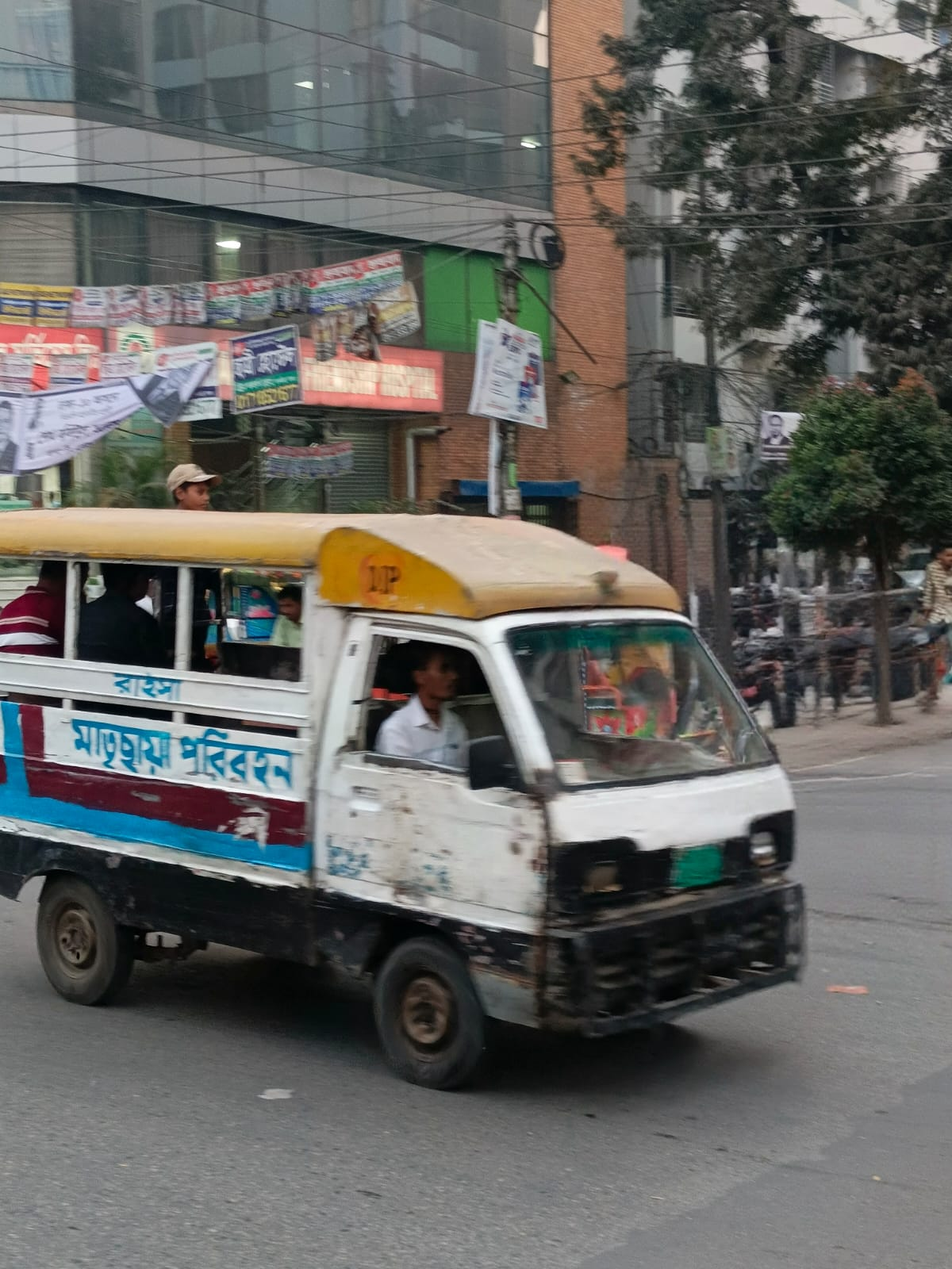Leguna: (0, 434, 844, 1084)
